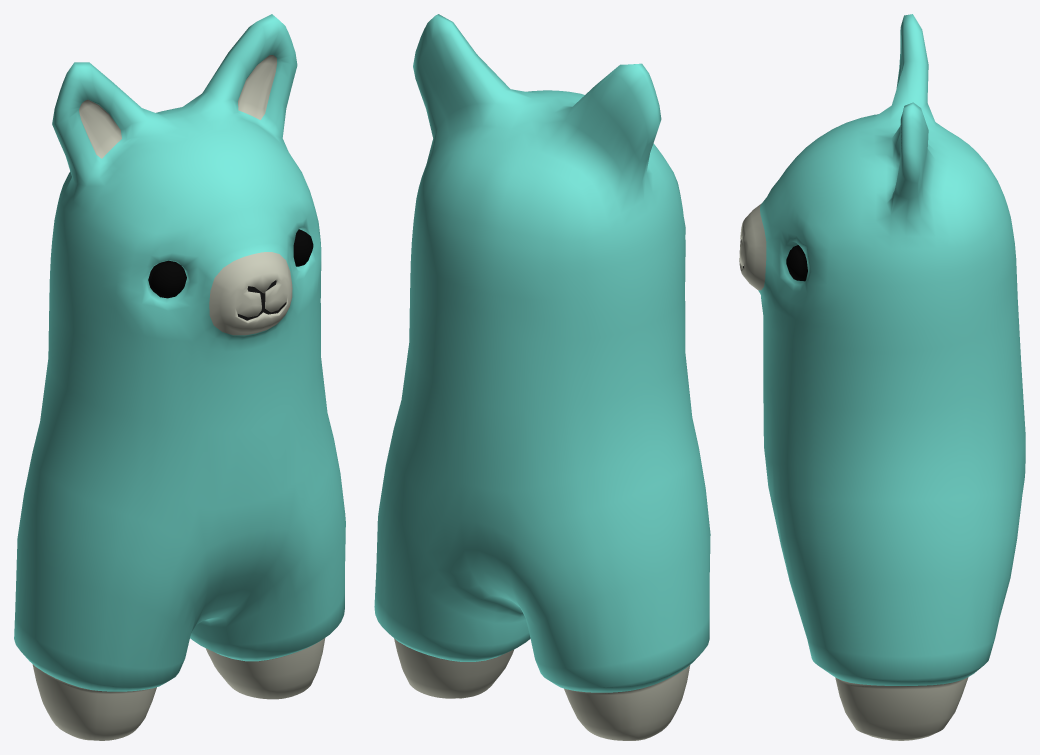
File: Llama.gltf
3 renders of one model, left to right at view 1: azimuth 30°, elevation 25°; view 2: azimuth 150°, elevation 25°; view 3: azimuth 270°, elevation 25°, orthographic. The views are drawn at different scales.
Visible parts, largest first — view 1: Cube; view 2: Cube; view 3: Cube.
Part boxes in pixels (<box>): Cube: <box>14,14,345,740</box>; Cube: <box>374,14,710,740</box>; Cube: <box>739,14,1025,740</box>.
Bounding box in the file's own units: 22.53 × 47.33 × 19.48.
